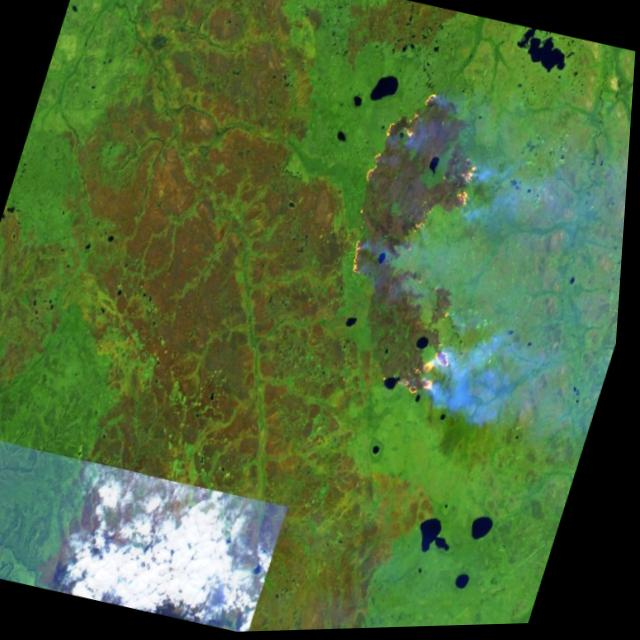fire: (300, 74, 542, 422)
